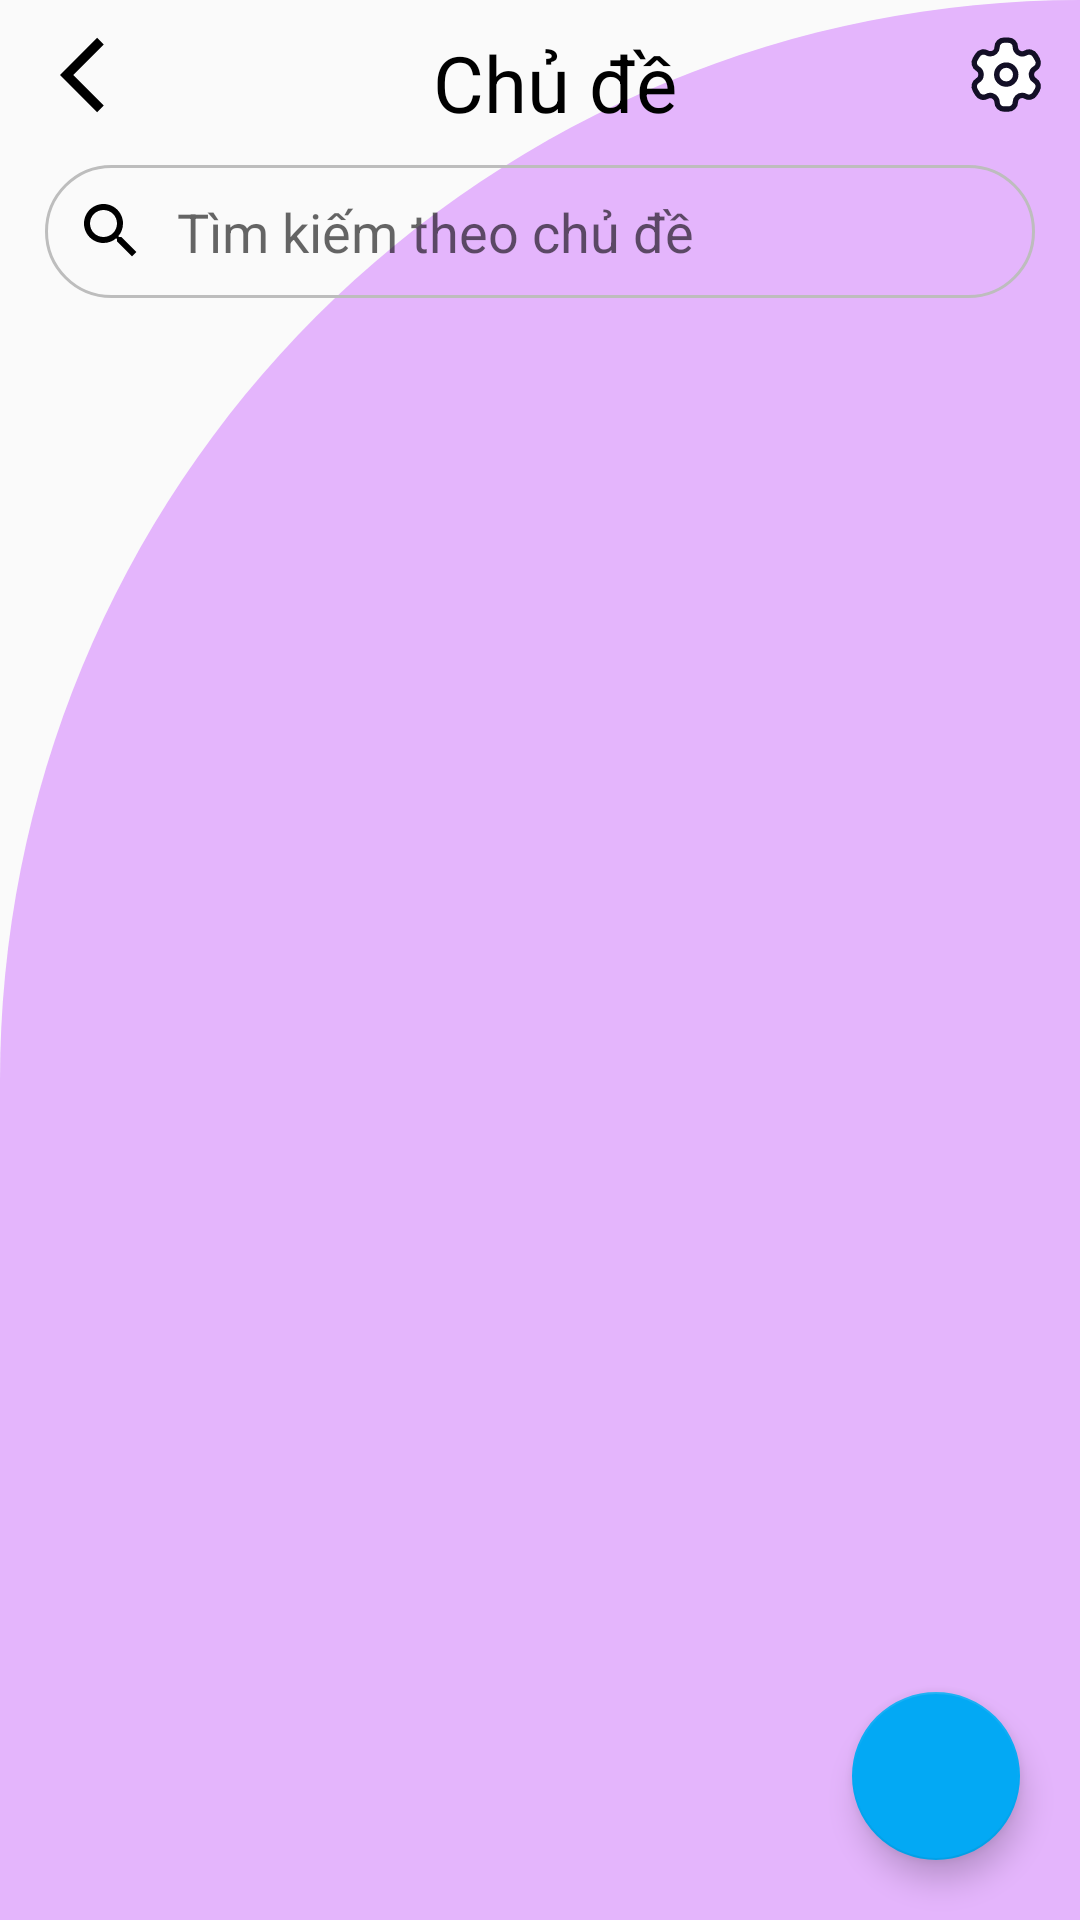

Where to tap for icons on this 1080x1920 app screen, as point (x, y):
arrow back: point (82, 75)
setting: point (1006, 74)
